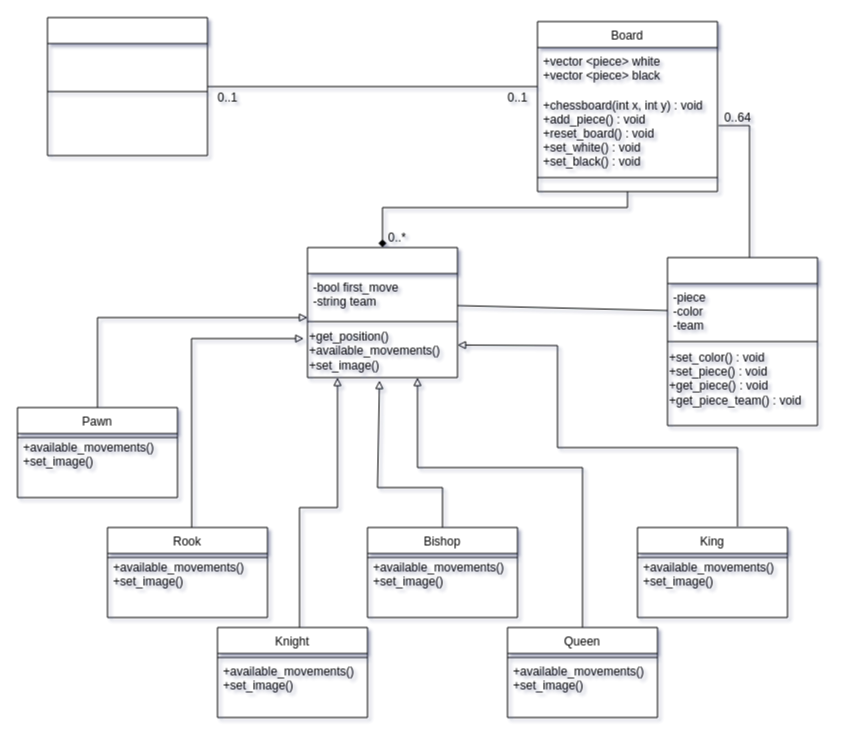
This 841x741 diagram has some shape labels left out. Each missing label, with the box of its shape:
Case: (666, 256, 818, 426)
Game: (46, 16, 208, 156)
Piece: (306, 246, 458, 378)
